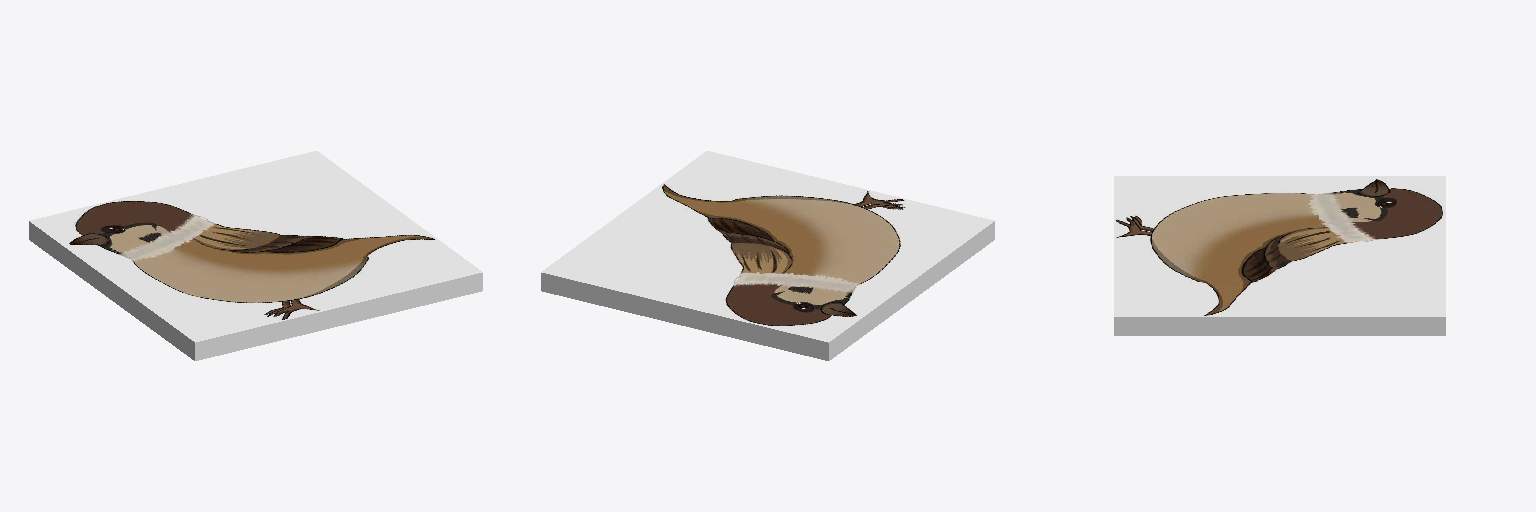
The picture shows the model from 3 angles: view 1: azimuth 30°, elevation 25°; view 2: azimuth 150°, elevation 25°; view 3: azimuth 270°, elevation 25°; orthographic projection.
Visible parts, largest first — view 1: pCube1; view 2: pCube1; view 3: pCube1.
Part boxes in pixels (x1,y1,x2,y2): pCube1: (29, 151, 482, 360); pCube1: (541, 151, 994, 360); pCube1: (1114, 176, 1445, 335).
Bounding box in the file's own units: 8 × 0.5 × 8.
1 materials, 1 textured.